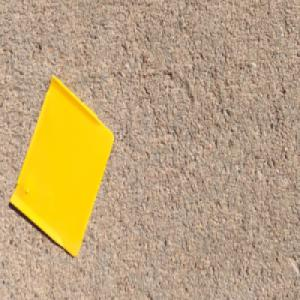PlasticPart: (8, 72, 114, 258)
